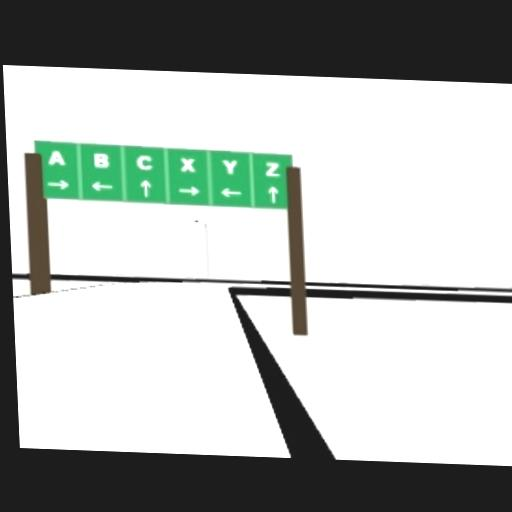A: (47, 148, 65, 164)
B: (92, 152, 108, 167)
C: (135, 153, 153, 169)
Left: (219, 186, 241, 197), (90, 179, 112, 190)
Right: (46, 177, 70, 188), (178, 184, 200, 195)
Straight: (267, 184, 278, 201), (140, 178, 150, 196)
X: (178, 156, 196, 169)
Y: (221, 157, 237, 173)
Z: (264, 159, 280, 175)
